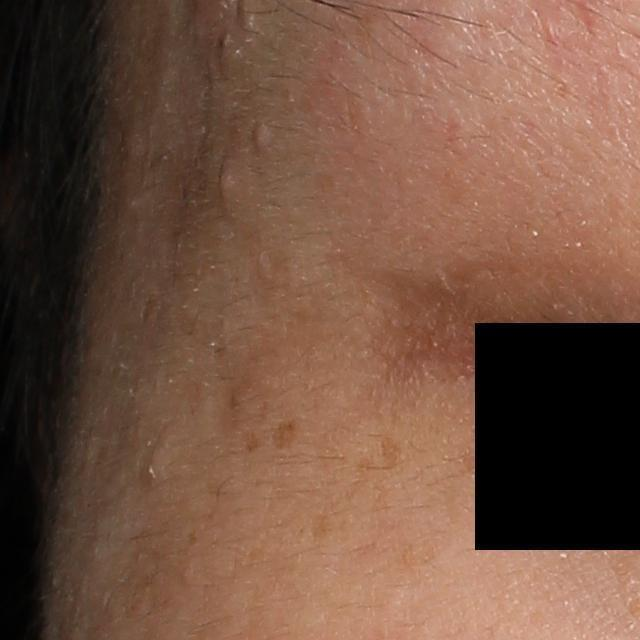comedo: (213, 156, 241, 210), (248, 120, 275, 153)
melasma: (269, 413, 301, 452), (241, 430, 261, 454)
